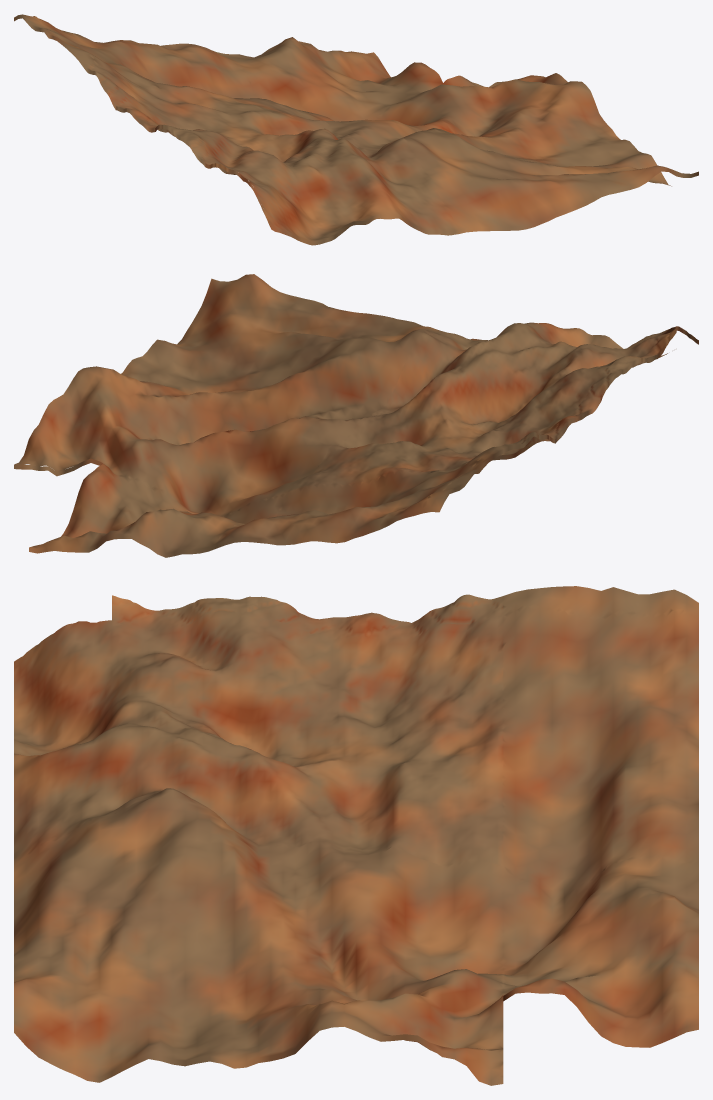
Rendered from terrain-022.glb.
3 renders of one model, top to bottom at view 1: azimuth 30°, elevation 25°; view 2: azimuth 150°, elevation 25°; view 3: azimuth 270°, elevation 25°, orthographic. The views are drawn at different scales.
Parts seen in each view (by area): view 1: terrain-022; view 2: terrain-022; view 3: terrain-022.
Boxes of the visible parts, x1,y1,x2,y2 form: terrain-022: (14, 14, 698, 245); terrain-022: (14, 274, 698, 557); terrain-022: (14, 586, 698, 1085).
Size of the model in its own units: 472 by 154 by 448.
